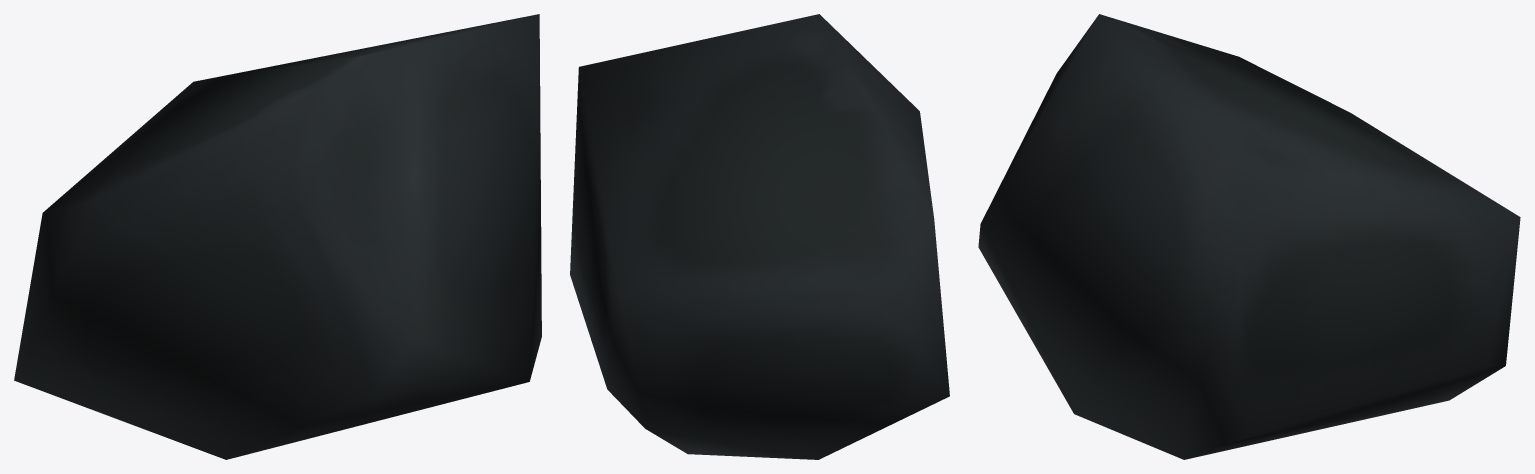
Rendered from O_Coal_B.fbx.
3 renders of one model, left to right at view 1: azimuth 30°, elevation 25°; view 2: azimuth 150°, elevation 25°; view 3: azimuth 270°, elevation 25°, orthographic. The views are drawn at different scales.
Visible parts, largest first — view 1: O_Coal_B; view 2: O_Coal_B; view 3: O_Coal_B.
Boxes of the visible parts, x1=… form: O_Coal_B: x1=14, y1=14, x2=541, y2=459; O_Coal_B: x1=570, y1=14, x2=949, y2=459; O_Coal_B: x1=978, y1=14, x2=1520, y2=459.
Size of the model in its own units: 14.57 by 11.5 by 14.26.
